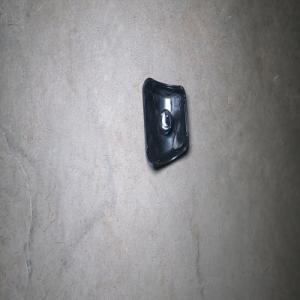LuggagePart: (141, 76, 189, 169)
